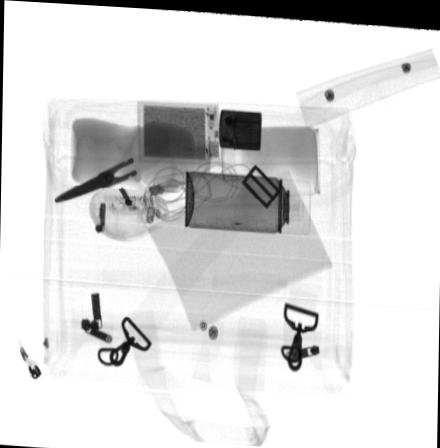Lighter: (217, 108, 262, 148)
Powerbank: (136, 98, 219, 161)
Scissors: (53, 123, 174, 206)
Sprayer: (185, 168, 310, 231)
